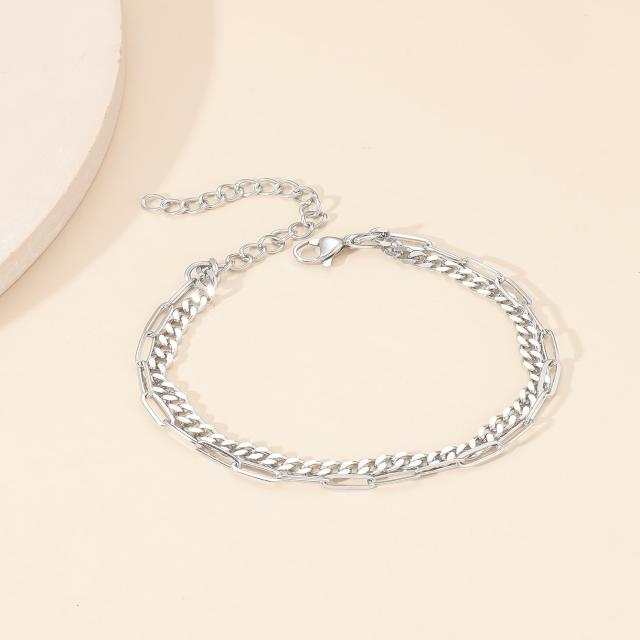bracelet: (54, 116, 640, 561)
